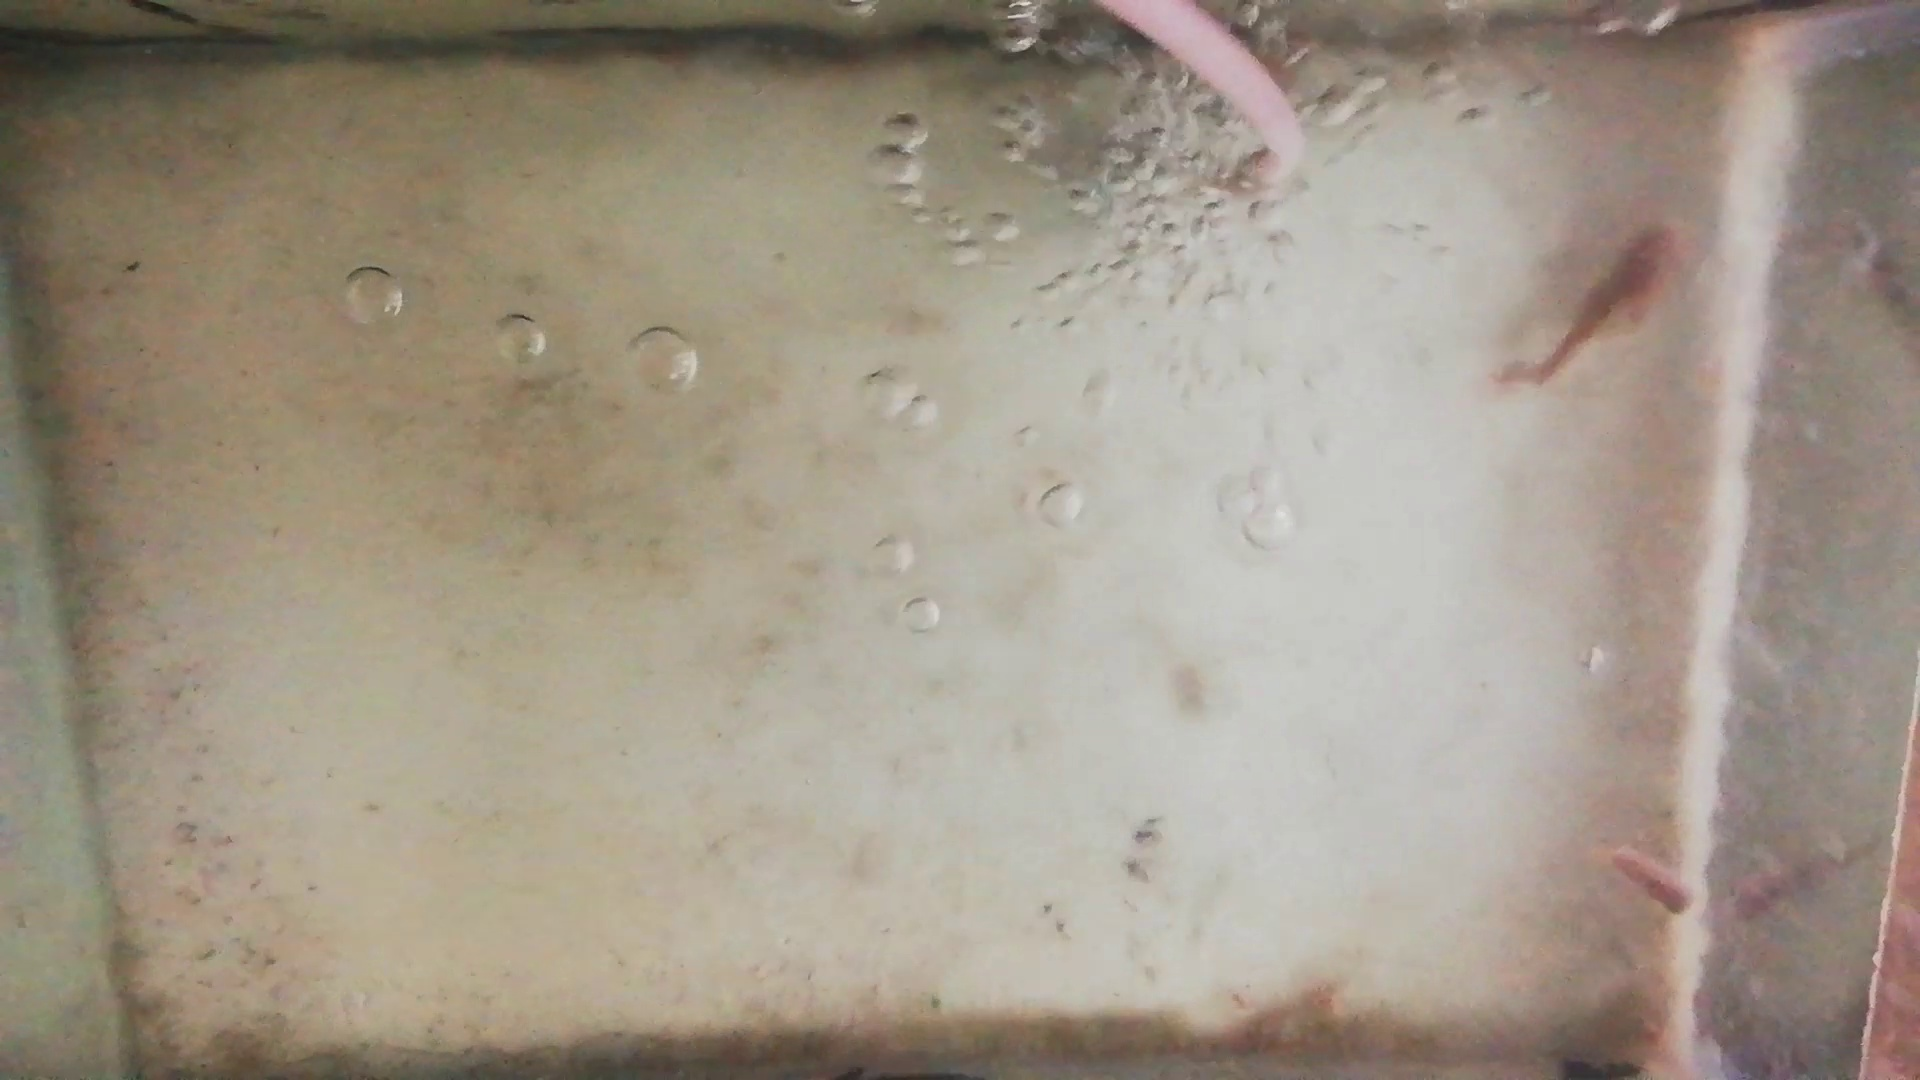fish: (1511, 222, 1677, 385), (1607, 847, 1695, 916)
